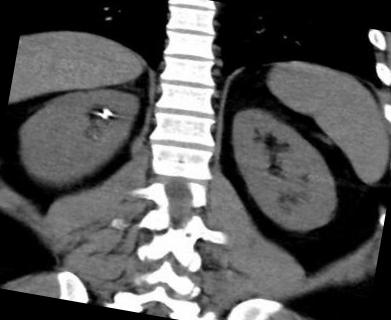Tas_Var: (89, 110, 114, 122), (100, 106, 115, 115)
